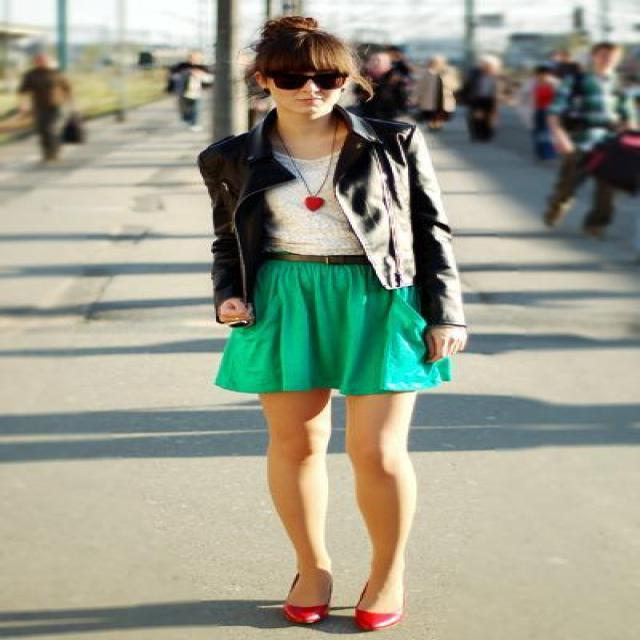jacket: (198, 112, 458, 345)
shirt: (269, 156, 363, 255)
shoe: (288, 576, 403, 626)
skirt: (214, 262, 438, 393)
sunglass: (251, 51, 347, 89)
